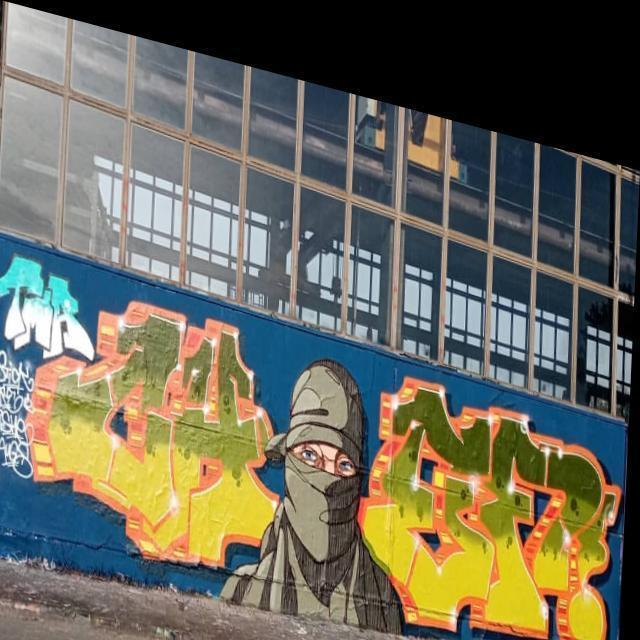nonspitting: (22, 302, 282, 568), (358, 378, 618, 639), (1, 253, 95, 359), (0, 352, 33, 477)
spitting: (222, 358, 400, 636)
